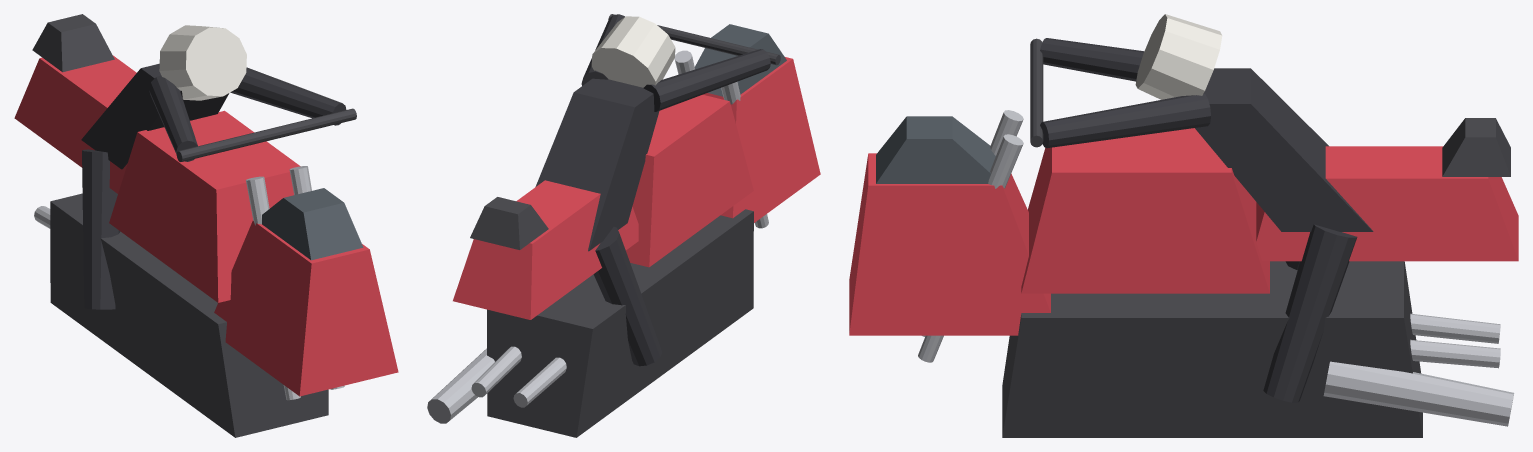
The model's file is bike.glb.
The picture shows the model from 3 angles, left to right: view 1: azimuth 30°, elevation 25°; view 2: azimuth 150°, elevation 25°; view 3: azimuth 270°, elevation 25°; orthographic projection. The views are drawn at different scales.
Visible parts, largest first — view 1: belly, nose, tank, tail, helmet, screen, torso, leg_L, tail_tip, arm_R, bars, arm_L (+2 smaller); view 2: belly, tank, tail, torso, nose, helmet, leg_L, arm_L, tail_tip, screen, exhaust, bars (+5 smaller); view 3: belly, tank, nose, tail, torso, leg_R, exhaust, screen, helmet, arm_R, tail_tip, arm_L (+5 smaller).
Part boxes in pixels (<box>): belly: <box>50,193,328,437</box>; nose: <box>214,220,398,396</box>; tank: <box>109,110,300,302</box>; tail: <box>14,55,136,193</box>; helmet: <box>159,25,246,100</box>; screen: <box>262,188,363,260</box>; torso: <box>81,63,229,169</box>; leg_L: <box>82,149,120,309</box>; tail_tip: <box>32,14,114,72</box>; arm_R: <box>230,67,346,125</box>; bars: <box>176,108,356,161</box>; arm_L: <box>149,75,197,161</box>; belly: <box>487,209,753,437</box>; tank: <box>626,94,753,267</box>; tail: <box>453,180,638,319</box>; torso: <box>535,78,659,251</box>; nose: <box>703,57,820,222</box>; helmet: <box>591,16,675,87</box>; leg_L: <box>593,227,662,366</box>; arm_L: <box>643,49,770,111</box>; tail_tip: <box>470,197,548,249</box>; screen: <box>694,24,786,96</box>; exhaust: <box>427,348,494,423</box>; bars: <box>608,14,780,65</box>; belly: <box>1002,261,1422,437</box>; tank: <box>1021,128,1269,293</box>; nose: <box>849,153,1050,335</box>; tail: <box>1256,146,1518,261</box>; torso: <box>1195,68,1373,231</box>; leg_R: <box>1263,224,1357,402</box>; exhaust: <box>1323,361,1514,426</box>; screen: <box>876,116,995,183</box>; helmet: <box>1135,14,1222,99</box>; arm_R: <box>1040,93,1210,148</box>; tail_tip: <box>1442,118,1510,176</box>; arm_L: <box>1040,38,1144,81</box>.
Bounding box in the file's own units: 0.6 × 1.14 × 1.75.
